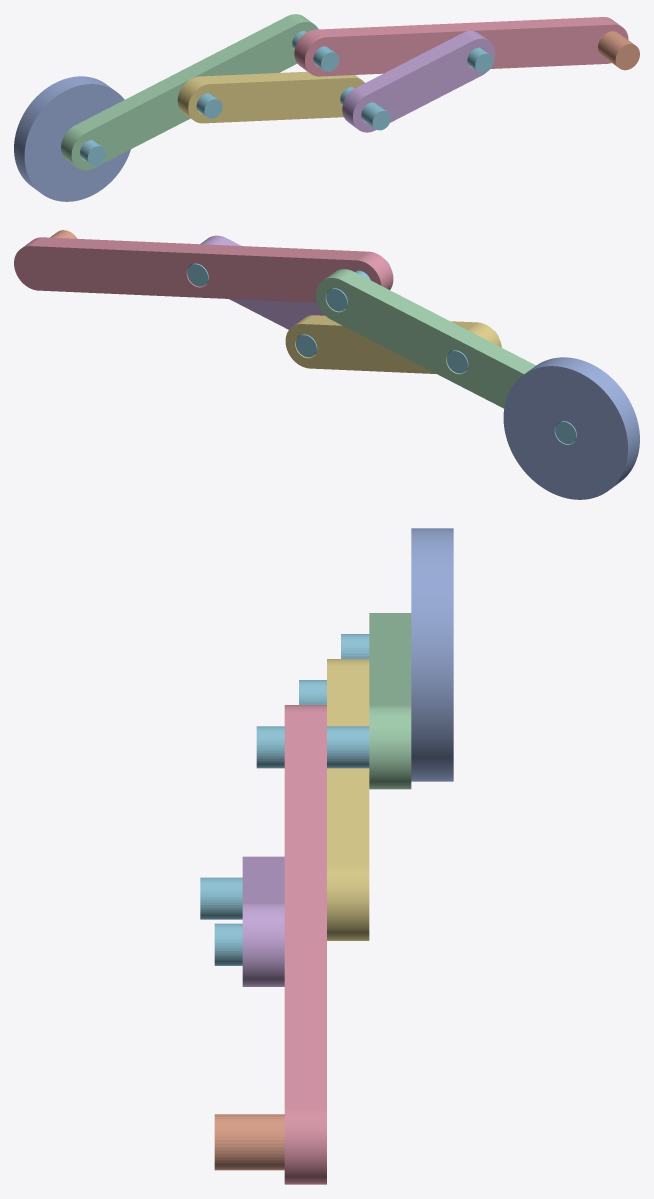
File: pantograph_linkage_demo.glb
3 renders of one model, top to bottom at view 1: azimuth 30°, elevation 25°; view 2: azimuth 150°, elevation 25°; view 3: azimuth 270°, elevation 25°, orthographic. The views are drawn at different scales.
Parts seen in each view (by area): view 1: bar_output, bar_pivot, base_pad, bar_stylus, bar_closer, output_point, stylus_pin, pin_c, pin_d, pin_a, pin_f; view 2: bar_output, base_pad, bar_pivot, bar_stylus, bar_closer, pin_c, pin_a, pin_d, stylus_pin, pin_f; view 3: bar_output, base_pad, bar_stylus, bar_pivot, bar_closer, output_point, pin_c, stylus_pin, pin_d.
Part boxes in pixels (x1,y1,x2,y2): bar_output: [294, 17, 628, 76]; bar_pivot: [61, 14, 318, 170]; base_pad: [14, 76, 130, 201]; bar_stylus: [177, 71, 364, 123]; bar_closer: [342, 31, 495, 132]; output_point: [598, 31, 639, 70]; stylus_pin: [340, 87, 390, 130]; pin_c: [292, 31, 339, 71]; pin_d: [467, 47, 493, 73]; pin_a: [196, 93, 222, 118]; pin_f: [80, 140, 105, 165]; bar_output: [14, 237, 393, 302]; base_pad: [503, 357, 639, 499]; bar_pivot: [316, 269, 535, 408]; bar_stylus: [285, 315, 501, 373]; bar_closer: [200, 235, 324, 329]; pin_c: [326, 259, 389, 311]; pin_a: [447, 330, 498, 373]; pin_d: [187, 263, 208, 286]; stylus_pin: [296, 334, 317, 357]; pin_f: [555, 421, 576, 443]; bar_output: [284, 705, 326, 1184]; base_pad: [411, 528, 453, 781]; bar_stylus: [327, 659, 369, 940]; bar_pivot: [369, 613, 411, 789]; bar_closer: [242, 856, 284, 986]; output_point: [214, 1114, 284, 1170]; pin_c: [256, 726, 369, 768]; stylus_pin: [200, 877, 242, 919]; pin_d: [214, 923, 242, 965].
Bounding box in the file's own units: 94 × 21.01 × 18.
